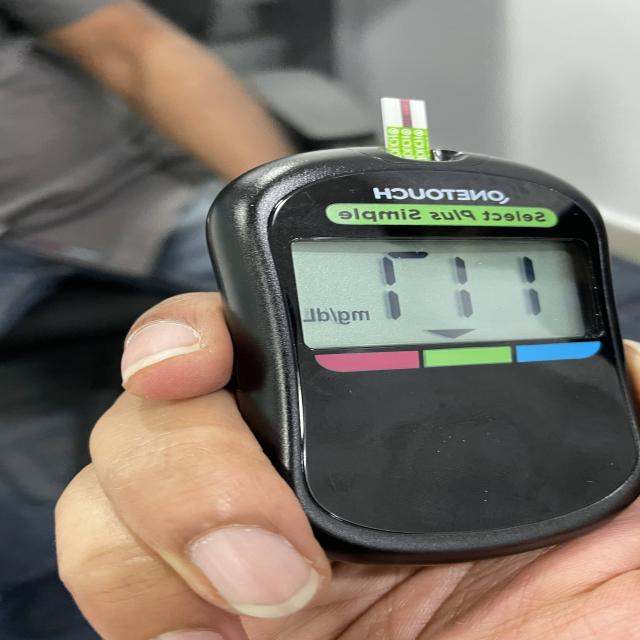gluco: (205, 103, 640, 571)
